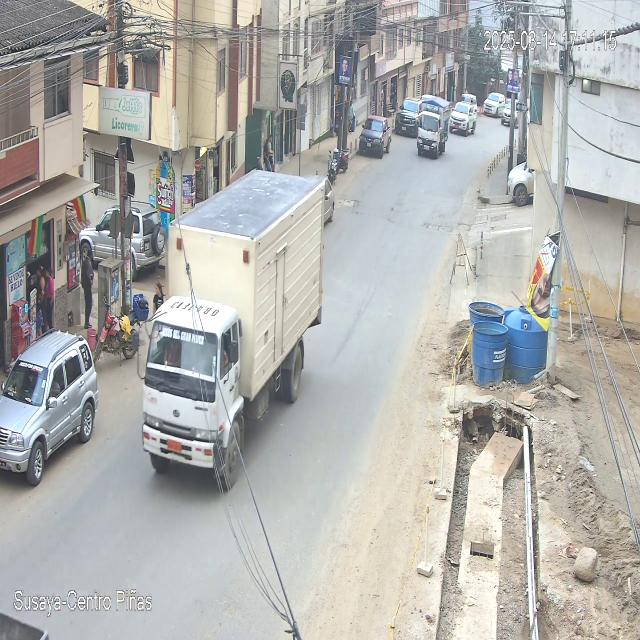TRUCK: (142, 170, 326, 495)
